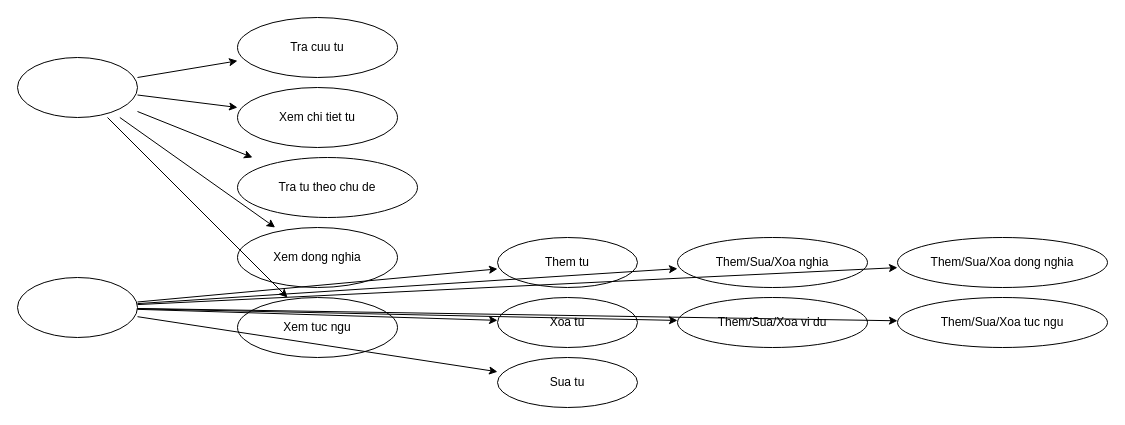
Image size: 1125x425. Some labels were removed from this diagram. The shapes that lost their labels are listed below. From the top down, each one's box as (x1, y1, x2, y2) in pixels, then its label:
(16, 56, 138, 118): Nguoi dung
(16, 276, 138, 338): Admin
